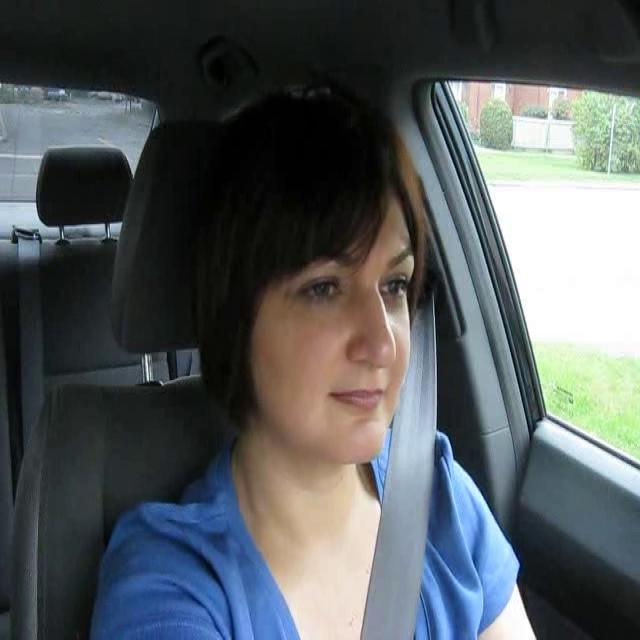close: (327, 379, 392, 416)
